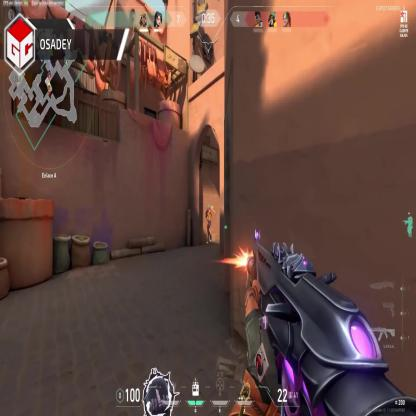enemy: (205, 205, 214, 247)
enemy_head: (206, 204, 210, 211)
